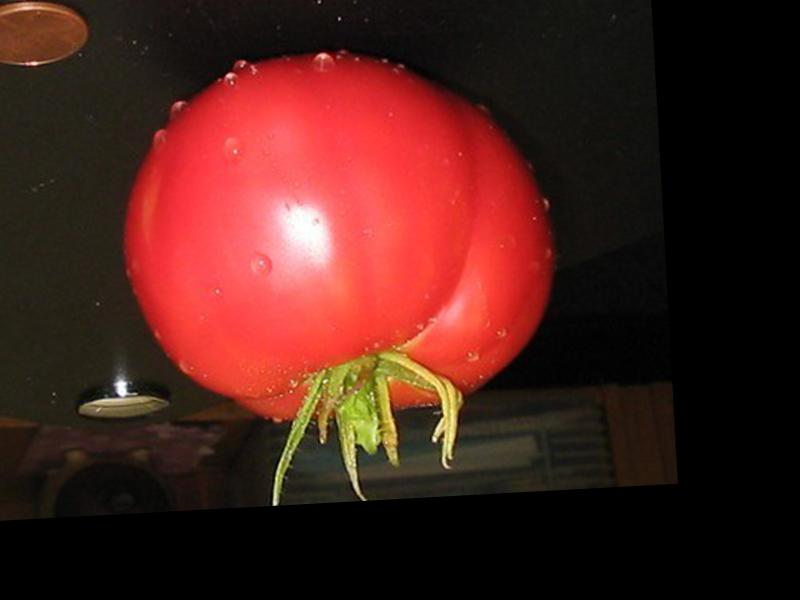Tomato: (115, 40, 565, 431)
